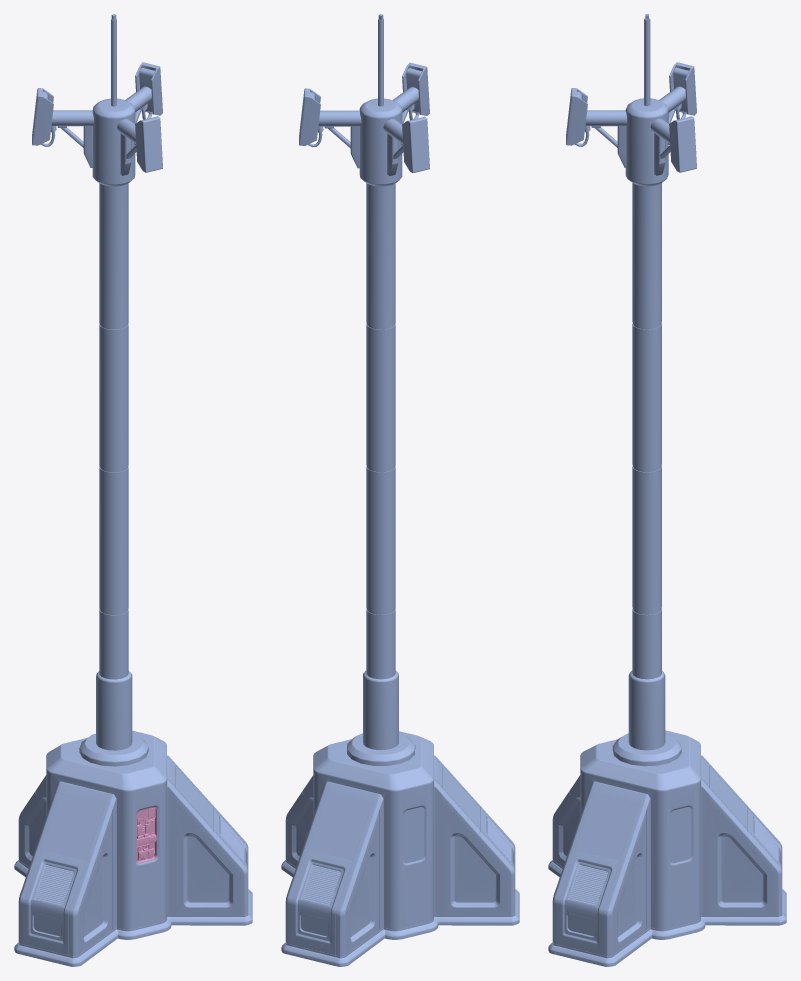
Rendered from WeatherTowerV2.fbx.
3 renders of one model, left to right at view 1: azimuth 30°, elevation 25°; view 2: azimuth 150°, elevation 25°; view 3: azimuth 270°, elevation 25°, orthographic.
Visible parts, largest first — view 1: Stormtower LOD 0.010, Stormtower LOD 0.003; view 2: Stormtower LOD 0.010; view 3: Stormtower LOD 0.010.
Boxes of the visible parts, left/top/right/bottom form: Stormtower LOD 0.010: left=14, top=14, right=252, bottom=966; Stormtower LOD 0.003: left=136, top=807, right=157, bottom=863; Stormtower LOD 0.010: left=281, top=14, right=519, bottom=966; Stormtower LOD 0.010: left=548, top=14, right=786, bottom=966.
Size of the model in its own units: 514 by 1861 by 449.
